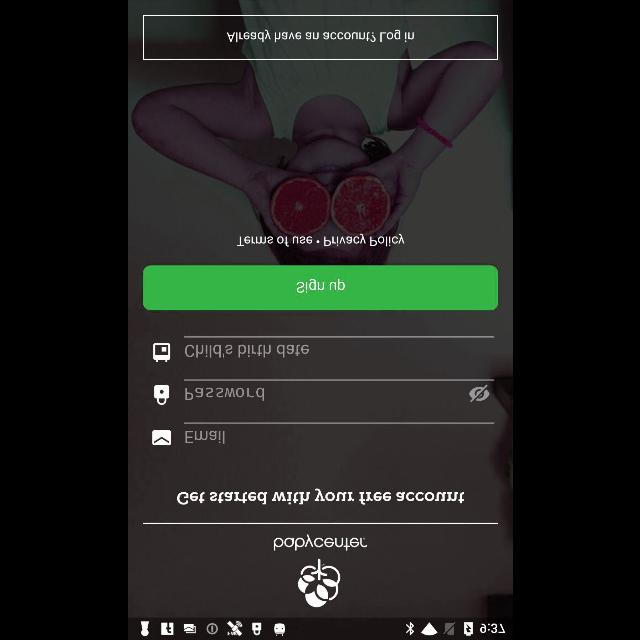backgroundimage: (128, 0, 512, 618)
icon: (468, 384, 489, 402), (152, 342, 170, 362), (153, 385, 169, 405), (152, 430, 170, 446)
image: (296, 558, 340, 608)
input: (183, 336, 494, 358), (183, 422, 494, 444), (183, 380, 493, 402)
text: (176, 488, 464, 504), (236, 234, 404, 246), (185, 344, 308, 358), (273, 534, 367, 550), (184, 387, 264, 401), (184, 430, 223, 444)
textbutton: (142, 15, 498, 60), (142, 266, 498, 310)
uppertaskbar: (128, 617, 512, 639)
